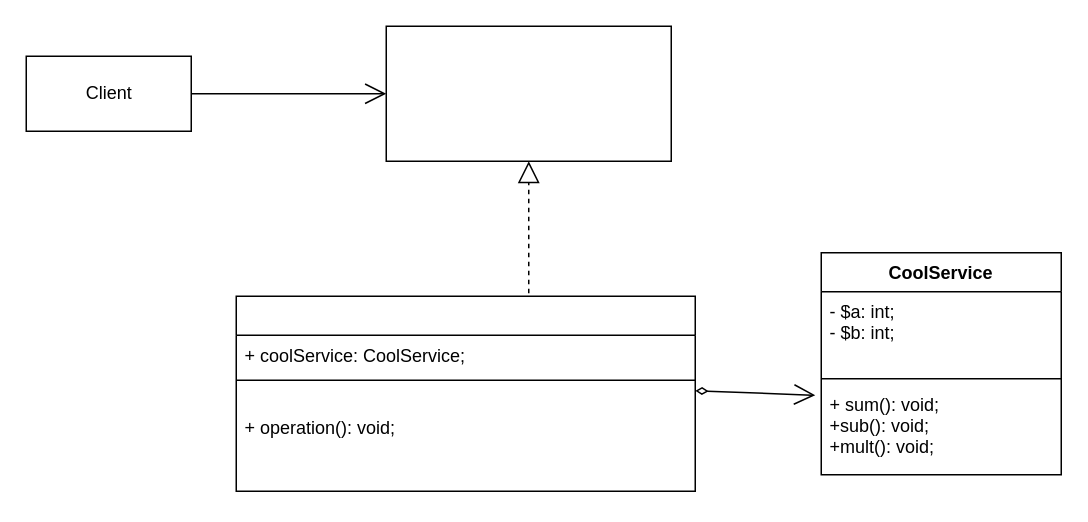
Image size: 1088x522. Some labels were removed from this diagram. Here are the shapes that lost their labels. From the top down, the box of each, then its label:
(385, 25, 671, 161): <<Interface>> Calculation + operation(): void
(235, 295, 695, 491): Adapter
